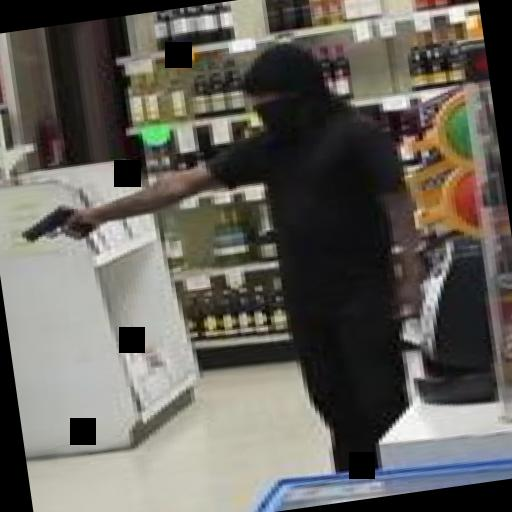Handgun: (11, 199, 93, 246)
